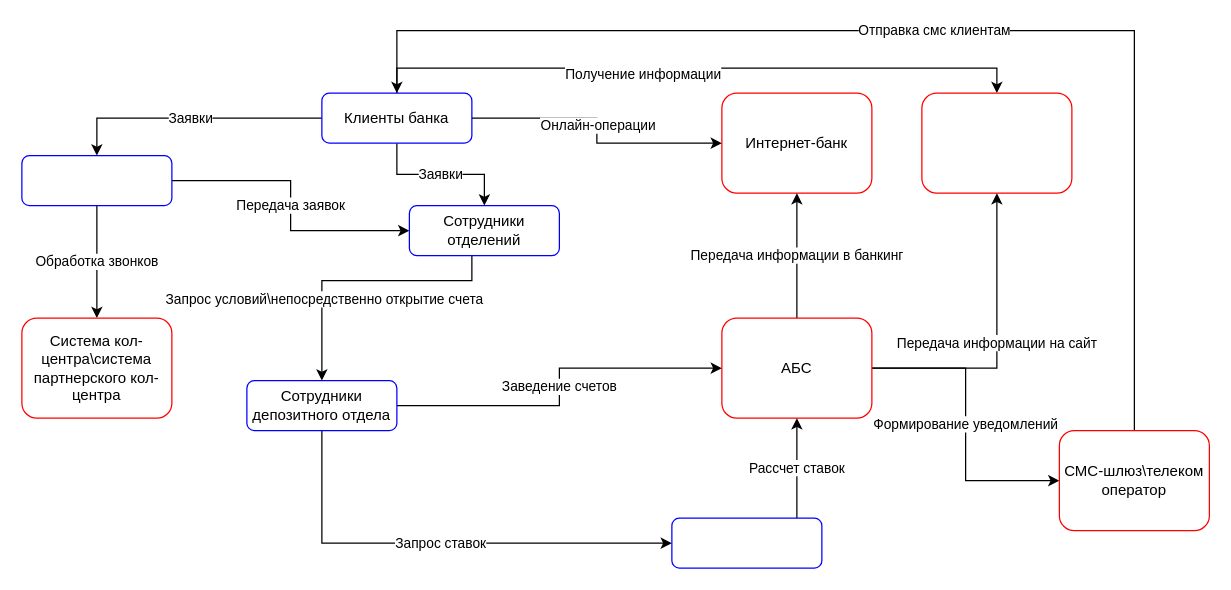
Some shapes in this 1231 by 590 pixel diagram are drawn without their labels. Here are the shapes that lost their labels. From the top down, the centre of each, then its label:
(x=996, y=142): Сайт
(x=96, y=180): Сотрудники кол-центра
(x=746, y=542): Сотрудники кредитного отдела
